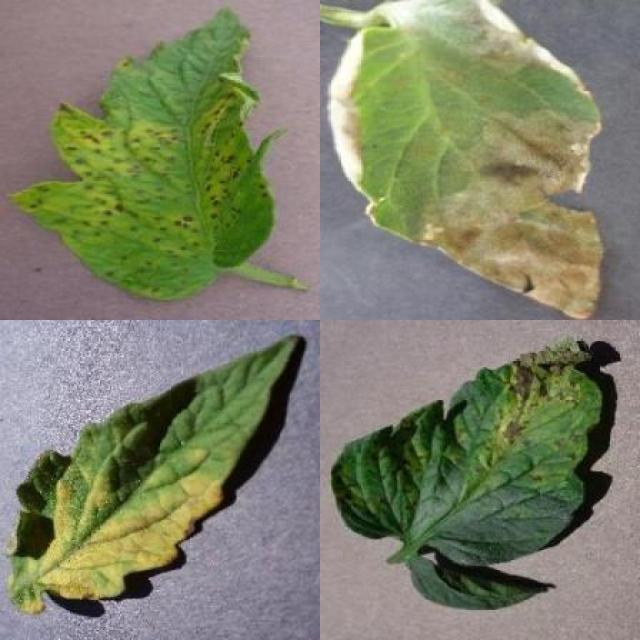Late Blight: (328, 0, 606, 320)
Leaf Mold: (8, 336, 301, 616)
Septoria: (10, 6, 273, 301), (329, 336, 601, 566)
